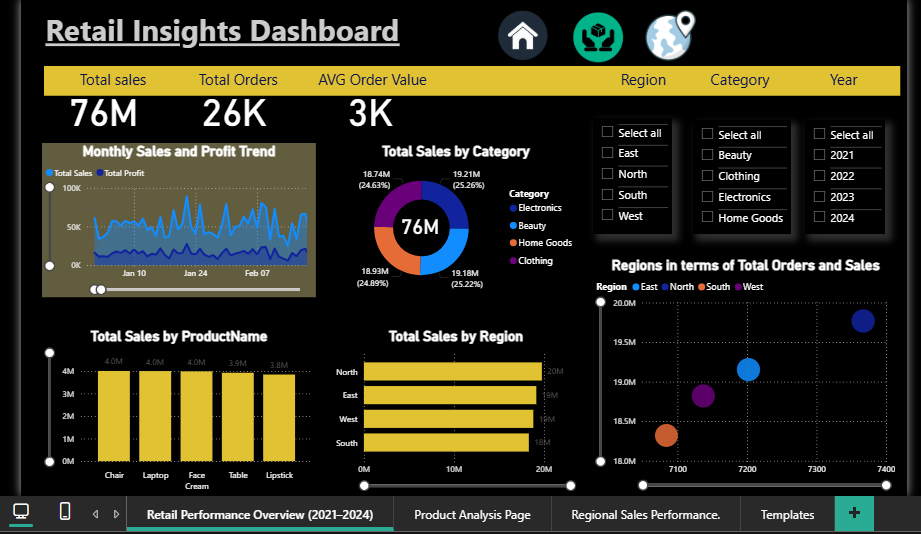

The dashboard page shown, as its layout file describes it:
{"tool":"powerbi","page":{"name":"Retail Performance Overview (2021–2024)","canvas":[1280,720],"ordinal":0},"visuals":[{"type":"slicer","fields":{"Values":["Retail_Sales_Data_2021_2024_30K.Region"]},"box":[826.5,173,114.2,168],"z":0},{"type":"slicer","fields":{"Values":["Retail_Sales_Data_2021_2024_30K.Category"]},"box":[970.9,176.4,141.1,164.6],"z":1000},{"type":"slicer","fields":{"Values":["DateTable.Year"]},"box":[1133.9,176.4,115.9,164.6],"z":2000},{"type":"areaChart","title":"Monthly Sales and Profit Trend","fields":{"Y":["DateTable.Total Sales","DateTable.Total Profit"],"Category":["DateTable.Date"]},"box":[30.4,209.6,396.1,222.7],"z":3000},{"type":"clusteredBarChart","fields":{"Y":["DateTable.Total Sales"],"Category":["Retail_Sales_Data_2021_2024_30K.Region"]},"box":[446.8,477.1,364.5,238.5],"z":4000},{"type":"card","fields":{"Values":["Sum(Retail_Sales_Data_2021_2024_30K.TotalSales)"]},"box":[33.3,128.7,170.6,62.2],"z":5000},{"type":"card","fields":{"Values":["DateTable.Number of oders"]},"box":[215.4,128.7,185.1,62.2],"z":6000},{"type":"card","fields":{"Values":["DateTable.Avf Order Value"]},"box":[414.9,127.2,180.7,63.6],"z":7000},{"type":"donutChart","fields":{"Y":["DateTable.Total Sales"],"Category":["Retail_Sales_Data_2021_2024_30K.Category"]},"box":[446.7,209.6,364.3,222.7],"z":8000},{"type":"clusteredColumnChart","fields":{"Category":["Retail_Sales_Data_2021_2024_30K.ProductName"],"Y":["DateTable.Total Sales"]},"box":[30.2,477.1,396.4,243.6],"z":9000},{"type":"scatterChart","title":"Regions in terms of Total Orders and Sales","fields":{"X":["Retail_Sales_Data_2021_2024_30K.OrderID"],"Y":["DateTable.Total Sales"],"Series":["Retail_Sales_Data_2021_2024_30K.Region"],"Size":["DateTable.AVG Order Value"]},"box":[826.5,374.6,441.8,341],"z":10000},{"type":"textbox","box":[33.3,98.3,1237.6,43.4],"z":11000},{"type":"textbox","box":[30.2,11.8,1238,77.3],"z":12000},{"type":"image","box":[640.5,0,170.6,108.4],"z":13000},{"type":"image","box":[786.5,15.9,96.9,82.4],"z":14000},{"type":"card","fields":{"Values":["Sum(Retail_Sales_Data_2021_2024_30K.TotalSales)"]},"box":[524.8,297.8,104.1,62.2],"z":15000},{"type":"image","box":[883.4,10.1,112.8,88.2],"z":16000}]}

Visuals, with their boxes on the page's 1280x720 design canvas (x1, y1, x2, y2). These are canvas units, not pixel positions in the 921x534 screenshot, which may show the page scaled, cropped or inside an application window:
slicer - Retail_Sales_Data_2021_2024_30K.Region: BBox(826, 173, 941, 341)
slicer - Retail_Sales_Data_2021_2024_30K.Category: BBox(971, 176, 1112, 341)
slicer - DateTable.Year: BBox(1134, 176, 1250, 341)
"Monthly Sales and Profit Trend" areaChart: BBox(30, 210, 426, 432)
clusteredBarChart - DateTable.Total Sales x Retail_Sales_Data_2021_2024_30K.Region: BBox(447, 477, 811, 716)
card - Sum(Retail_Sales_Data_2021_2024_30K.TotalSales): BBox(33, 129, 204, 191)
card - DateTable.Number of oders: BBox(215, 129, 400, 191)
card - DateTable.Avf Order Value: BBox(415, 127, 596, 191)
donutChart - DateTable.Total Sales x Retail_Sales_Data_2021_2024_30K.Category: BBox(447, 210, 811, 432)
clusteredColumnChart - Retail_Sales_Data_2021_2024_30K.ProductName x DateTable.Total Sales: BBox(30, 477, 427, 721)
"Regions in terms of Total Orders and Sales" scatterChart: BBox(826, 375, 1268, 716)
textbox: BBox(33, 98, 1271, 142)
textbox: BBox(30, 12, 1268, 89)
image: BBox(640, 0, 811, 108)
image: BBox(786, 16, 883, 98)
card - Sum(Retail_Sales_Data_2021_2024_30K.TotalSales): BBox(525, 298, 629, 360)
image: BBox(883, 10, 996, 98)
